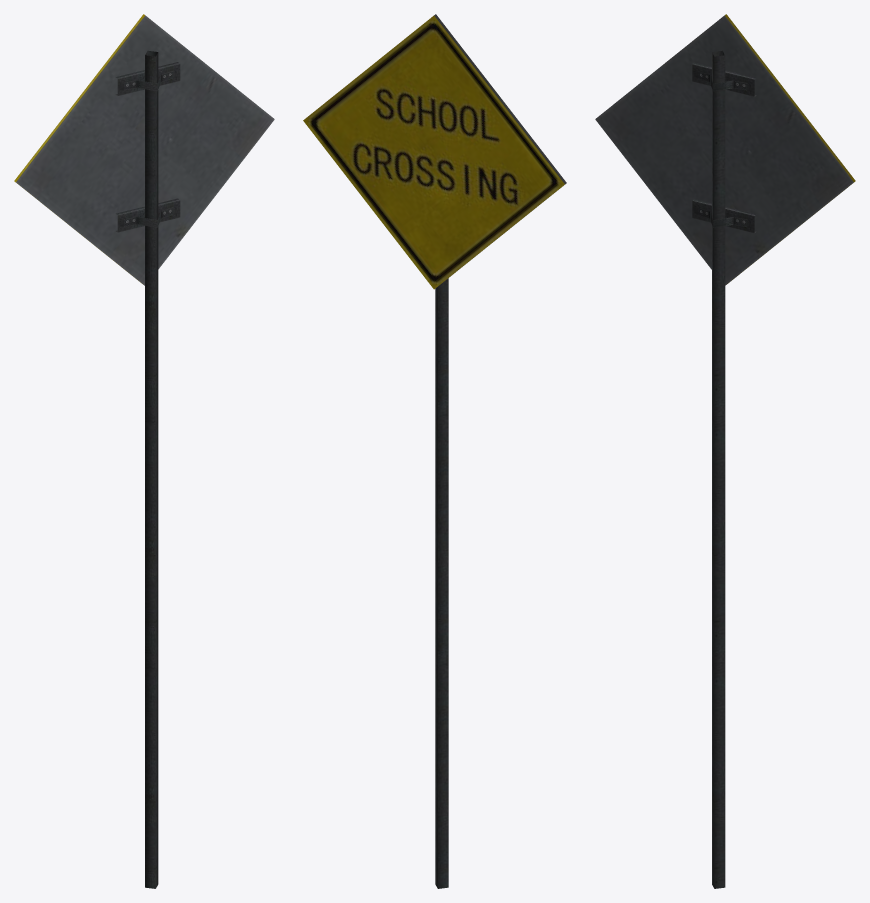
Rendered from School_Crossing.glb.
3 views of the same model, side by side, from view 1: azimuth 30°, elevation 25°; view 2: azimuth 150°, elevation 25°; view 3: azimuth 330°, elevation 25° (orthographic).
Visible parts, largest first — view 1: School_Crossing__LOD1; view 2: School_Crossing__LOD1; view 3: School_Crossing__LOD1.
Part boxes in pixels (x1,y1,x2,y2): School_Crossing__LOD1: (14, 14, 274, 888); School_Crossing__LOD1: (303, 14, 566, 888); School_Crossing__LOD1: (595, 14, 855, 888).
Bounding box in the file's own units: 0.9743 × 3.11 × 0.0893.
1 material, 1 textured.
